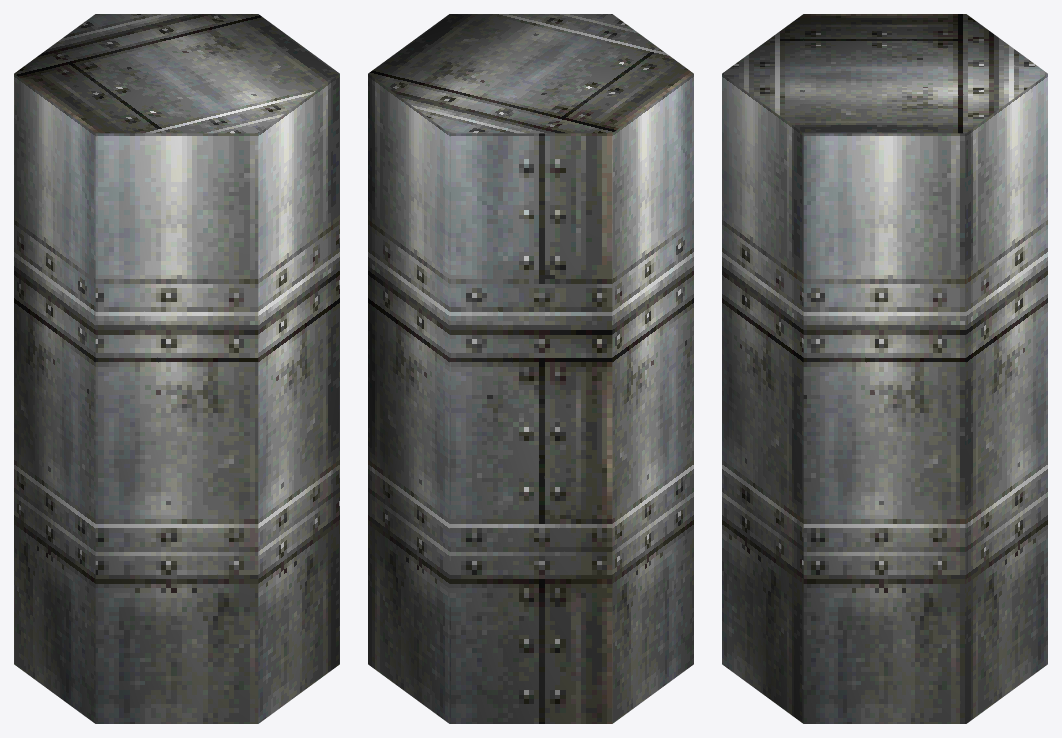
File: pipe_end.glb
The picture shows the model from 3 angles, left to right: view 1: azimuth 30°, elevation 25°; view 2: azimuth 150°, elevation 25°; view 3: azimuth 270°, elevation 25°; orthographic projection.
Parts seen in each view (by area): view 1: pipe_end; view 2: pipe_end; view 3: pipe_end.
Boxes of the visible parts, bbox=[...] form: pipe_end: bbox=[14, 14, 339, 723]; pipe_end: bbox=[368, 14, 693, 723]; pipe_end: bbox=[722, 14, 1047, 723].
Bounding box in the file's own units: 0.433 × 1 × 0.5.
1 material, 1 textured.
